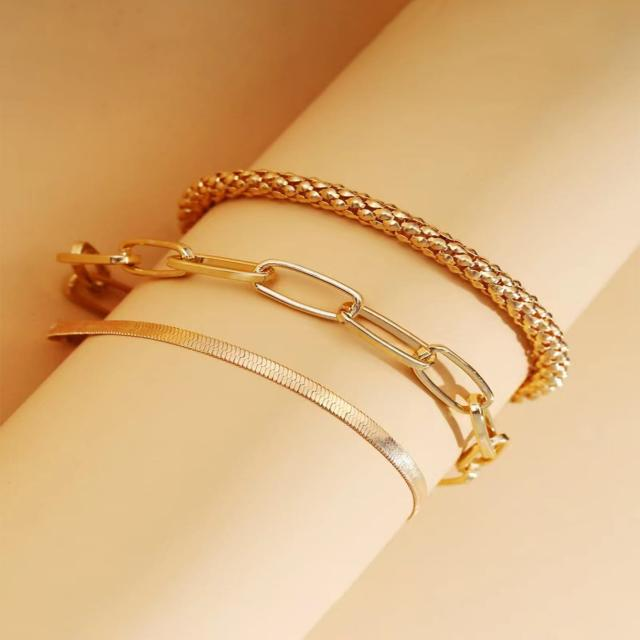bracelet: (0, 94, 640, 592)
